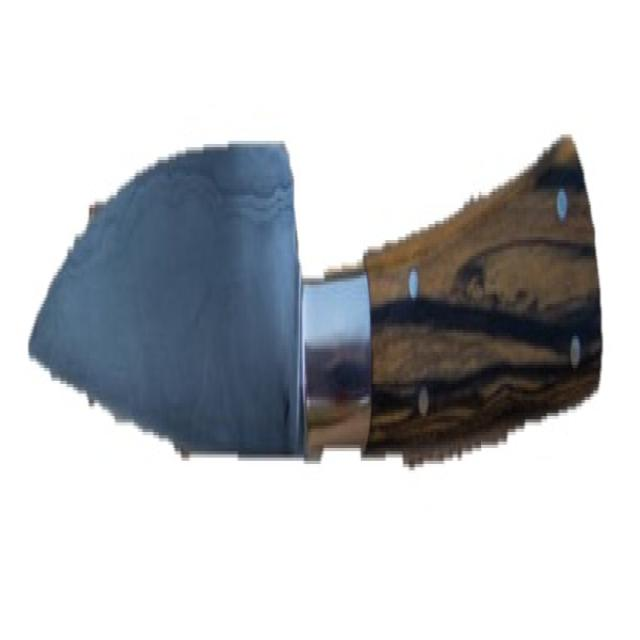knife: (26, 120, 606, 469)
